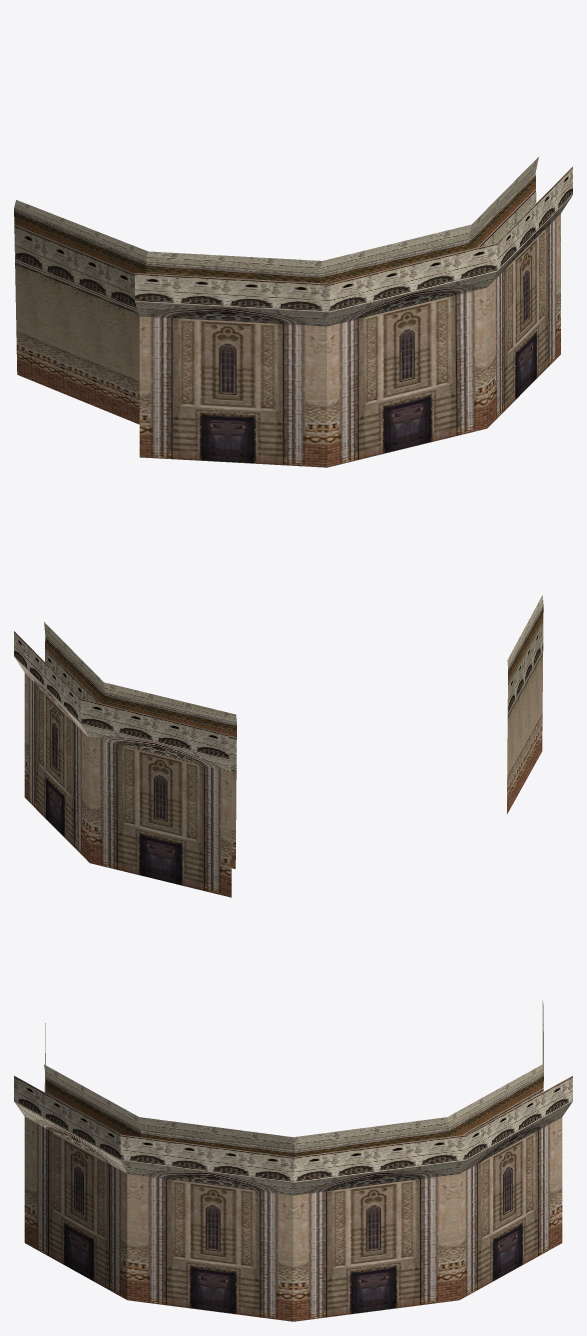
File: M2Zone2_Roundel.glb
3 views of the same model, one above another, from view 1: azimuth 30°, elevation 25°; view 2: azimuth 150°, elevation 25°; view 3: azimuth 270°, elevation 25° (orthographic). The views are drawn at different scales.
Parts seen in each view (by area): view 1: M2ZONE2_ROUNDEL; view 2: M2ZONE2_ROUNDEL; view 3: M2ZONE2_ROUNDEL.
Boxes of the visible parts, left/top/right/bottom form: M2ZONE2_ROUNDEL: left=14, top=157, right=572, bottom=467; M2ZONE2_ROUNDEL: left=14, top=595, right=543, bottom=897; M2ZONE2_ROUNDEL: left=14, top=1000, right=572, bottom=1321.
Bounding box in the file's own units: 31.56 × 11.6 × 33.26.
3 materials, 3 textured.
